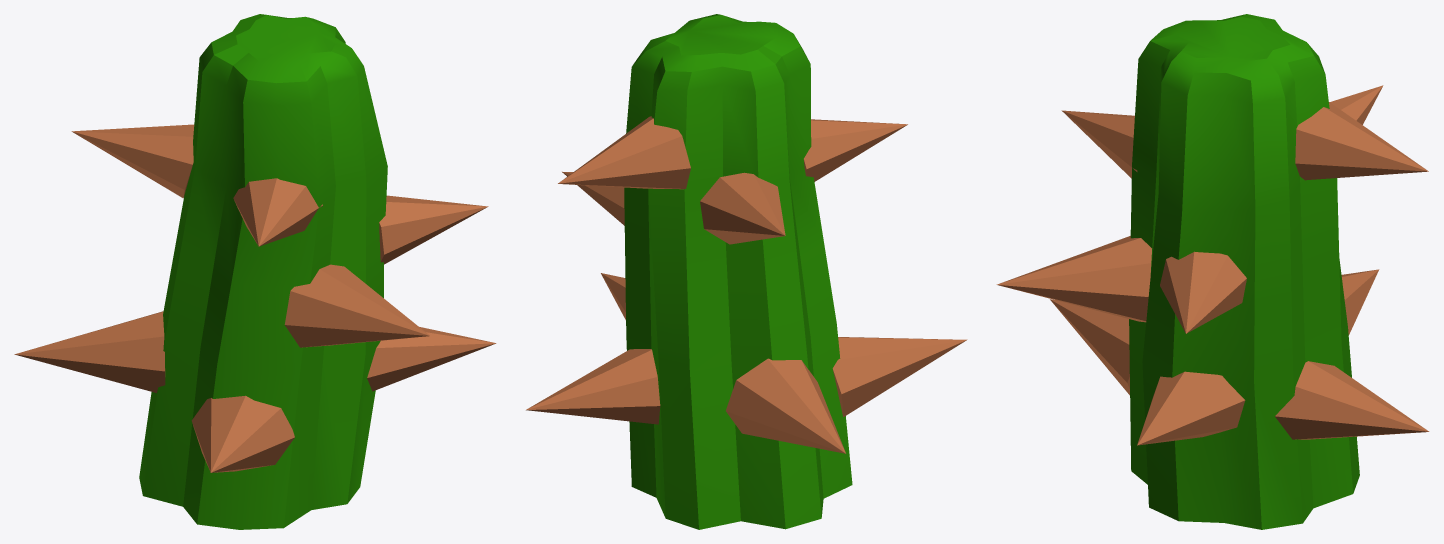
The model's file is Background_Cactus_small.fbx.
3 renders of one model, left to right at view 1: azimuth 30°, elevation 25°; view 2: azimuth 150°, elevation 25°; view 3: azimuth 270°, elevation 25°, orthographic. The views are drawn at different scales.
Visible parts, largest first — view 1: Background_Cactus_small; view 2: Background_Cactus_small; view 3: Background_Cactus_small.
Part boxes in pixels (box(x1,y1,x2,y2)): Background_Cactus_small: box(14, 14, 496, 529); Background_Cactus_small: box(526, 14, 967, 529); Background_Cactus_small: box(996, 14, 1429, 529).
Bounding box in the file's own units: 2.52 × 2.4 × 2.8.
